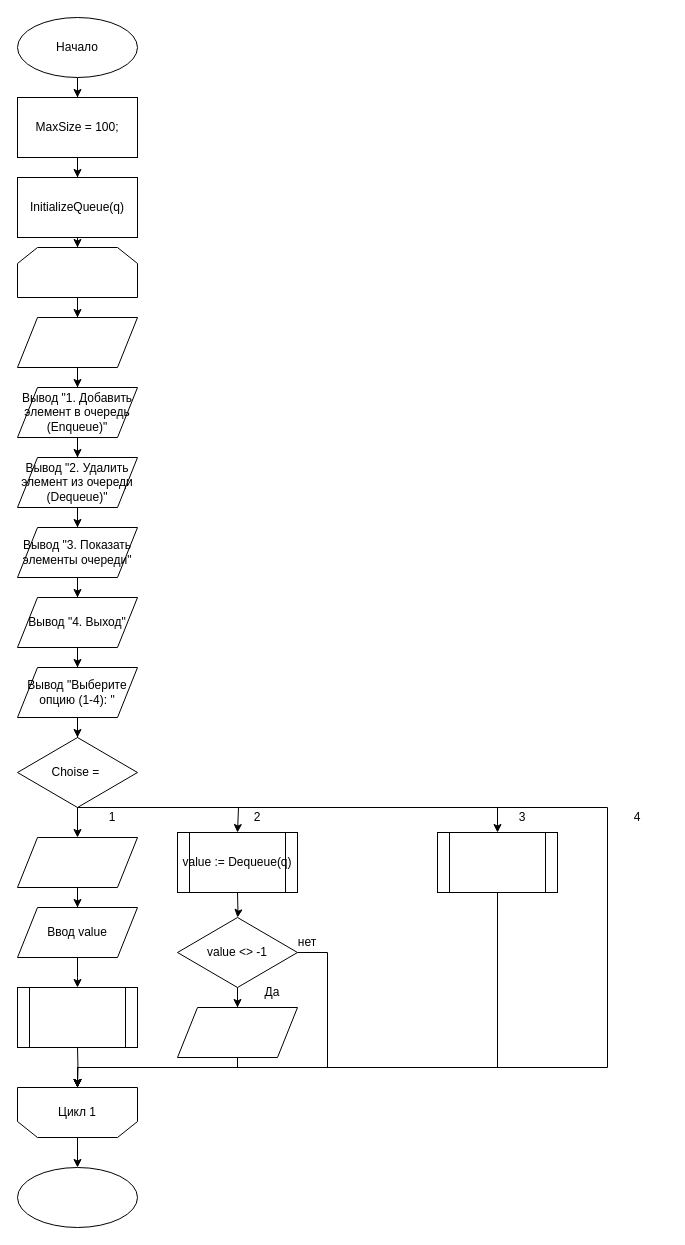
Some shapes in this 685 by 1245 pixel diagram are drawn without their labels. The shapes that lost their labels are listed below. From the top down, each one's centre as x and y in pixels, then its label:
(77,272): Цикл 1 сhoise = 4
(77,342): Вывод "Меню:"
(77,862): Вывод "Введите значение"
(497,862): DisplayQueue(q)
(77,1017): Enqueue(q, value)
(237,1032): Вывод "'Удаленный элемент: ', value"
(77,1197): Конец
